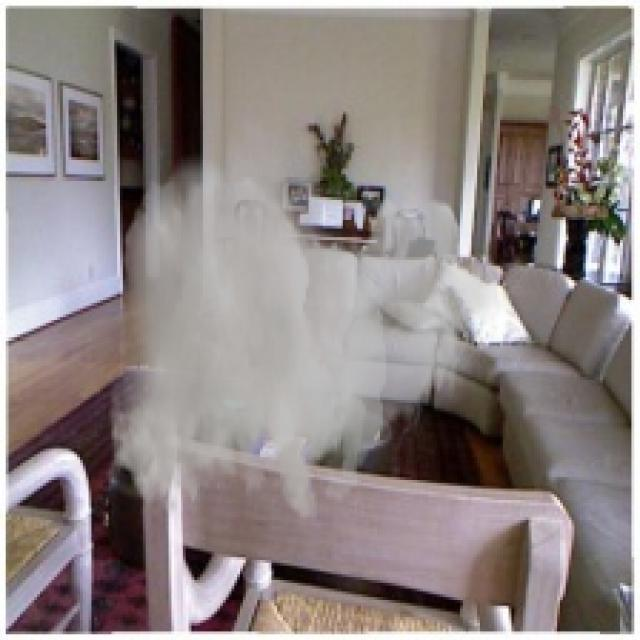Smoke: (109, 108, 512, 523)
